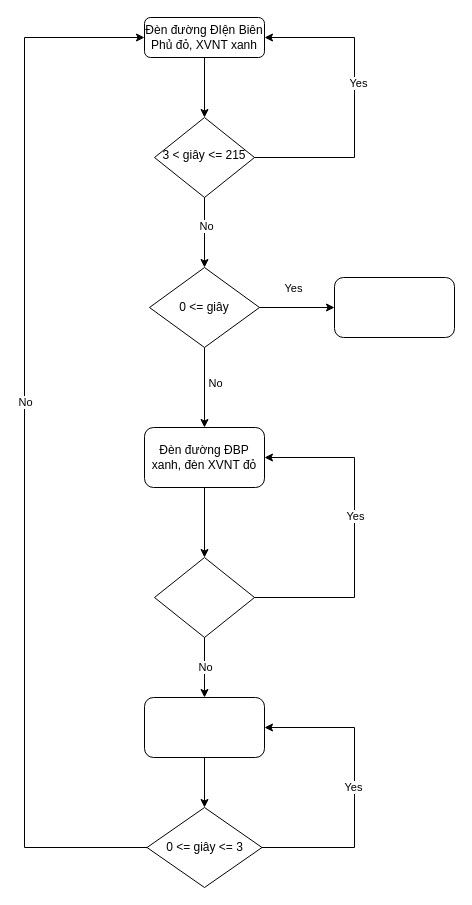
Image size: 472x905. Some labels were removed from this diagram. The shapes that lost their labels are listed below. From the top down, each one's box as (x1, y1, x2, y2) in pixels, then its label:
(334, 276, 454, 338): Đèn đường XVNT vàng
(154, 556, 254, 638): 0 <= giây <= 215
(144, 696, 264, 758): Đèn đường ĐBP vàng
